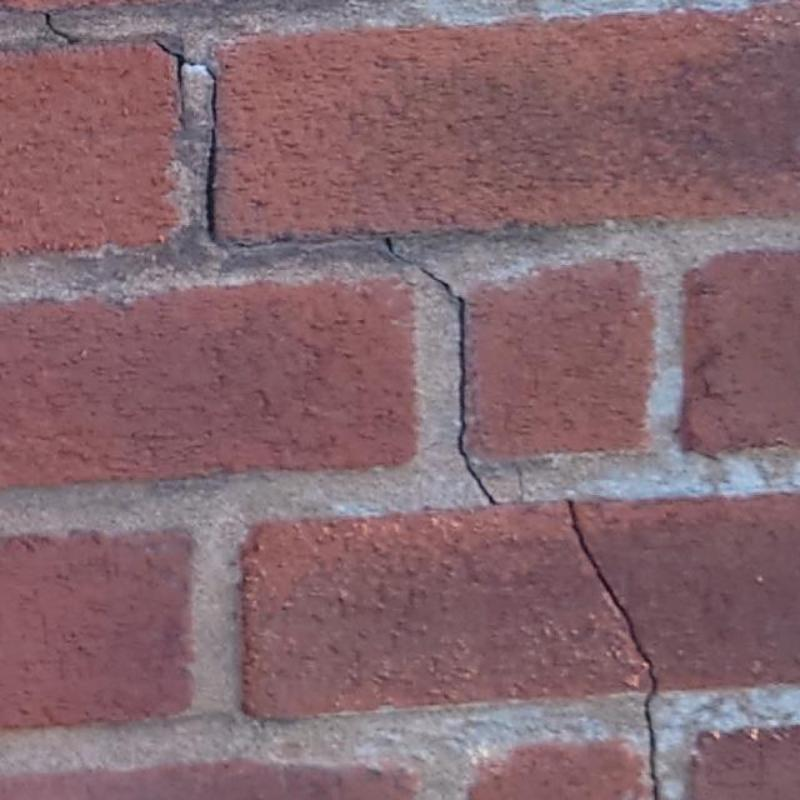pothole: (567, 501, 661, 799), (420, 267, 495, 504), (152, 38, 196, 131), (205, 65, 216, 240), (45, 14, 80, 44), (383, 236, 414, 265), (512, 462, 524, 503), (386, 238, 403, 259)
